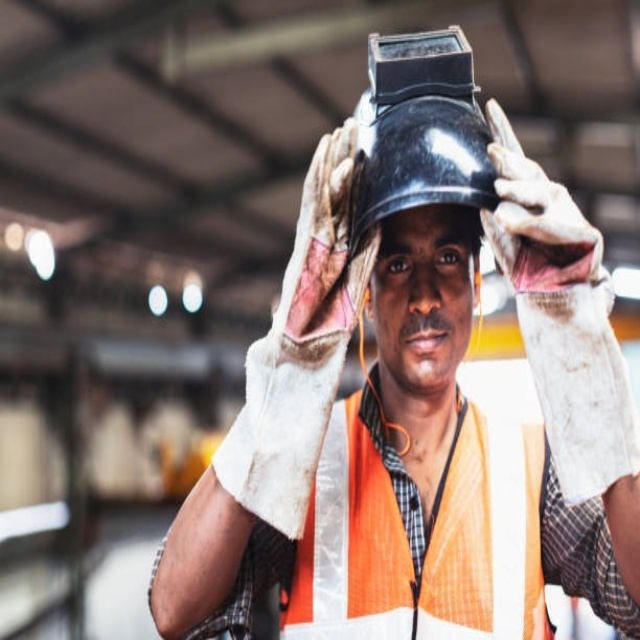Guantes: (203, 115, 375, 552), (479, 89, 635, 504)
Sin_gafas: (388, 226, 467, 281)
Sin_mascara: (401, 323, 457, 378)
